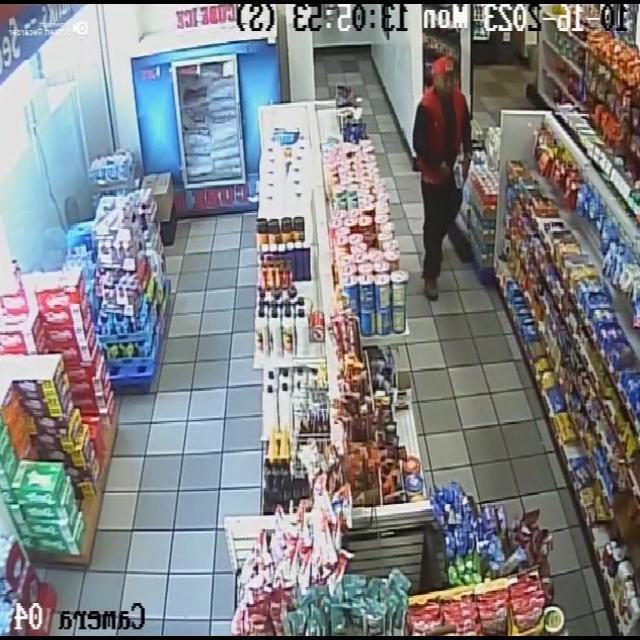Normal: (404, 27, 471, 289)
